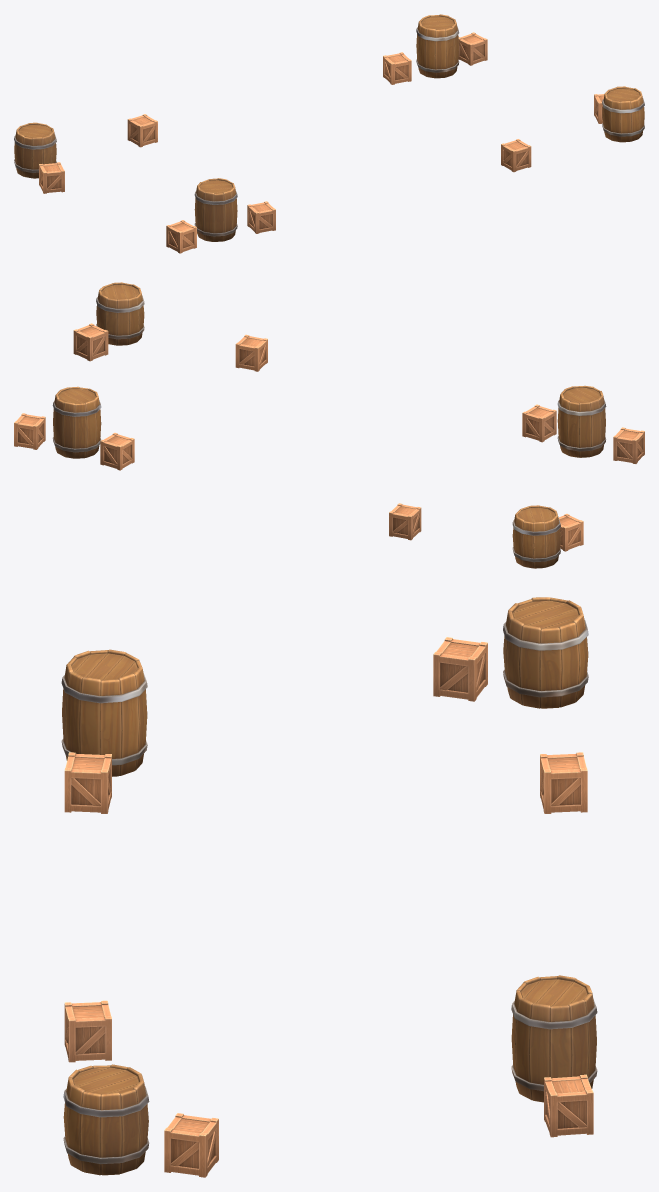
The model's file is obj_barrel.gltf.
3 renders of one model, top to bottom at view 1: azimuth 30°, elevation 25°; view 2: azimuth 150°, elevation 25°; view 3: azimuth 270°, elevation 25°, orthographic. The views are drawn at different scales.
Visible parts, largest first — view 1: obj_barrel; view 2: obj_barrel; view 3: obj_barrel.
Boxes of the visible parts, <box> form: obj_barrel: <box>14,14,644,253</box>; obj_barrel: <box>14,282,644,568</box>; obj_barrel: <box>61,597,597,1177</box>.
Size of what is drawn, in the model's own units: 13.44 by 1.23 by 6.05.
1 material, 1 textured.
